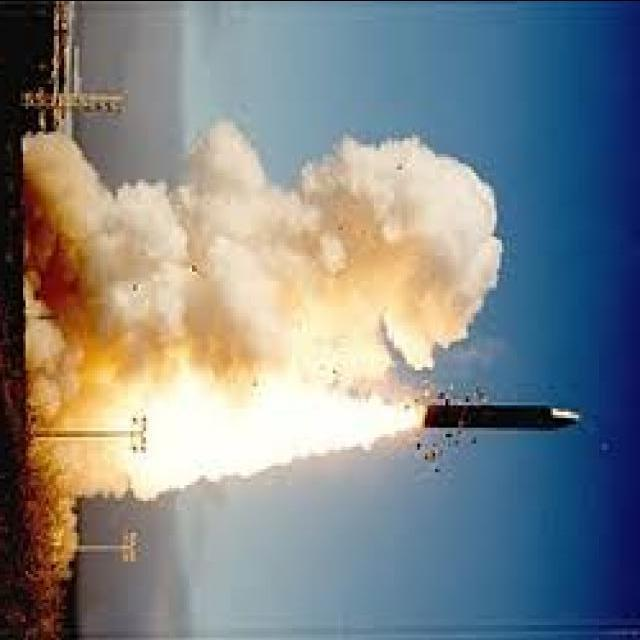Missile: (420, 392, 588, 435)
